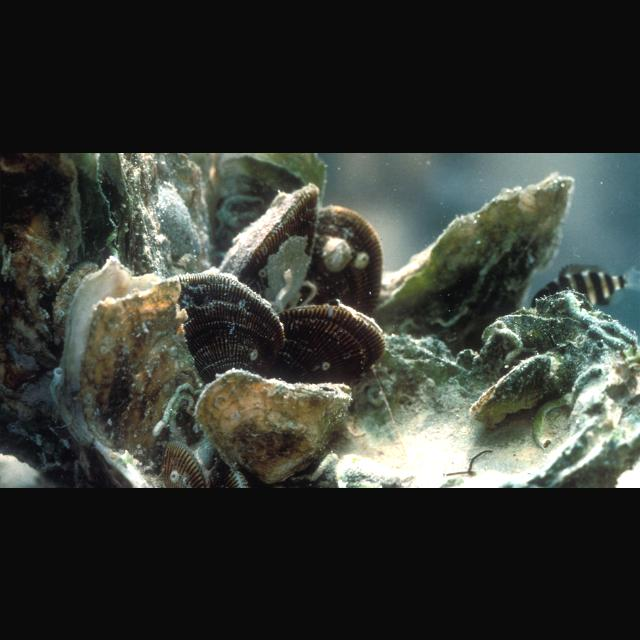Oyster-Closed: (382, 173, 574, 337), (197, 366, 356, 484), (210, 152, 328, 266), (219, 182, 321, 312), (166, 273, 284, 383), (296, 205, 382, 321), (277, 303, 387, 387), (470, 352, 564, 424)
Oyster-Open: (56, 255, 212, 482)
